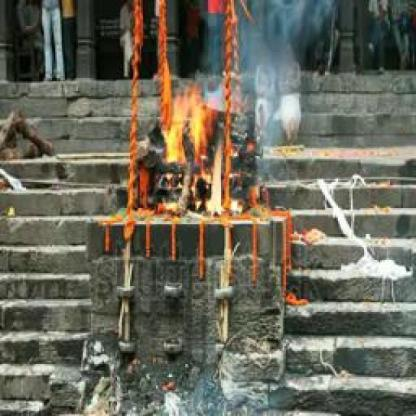fire: (165, 77, 224, 218)
